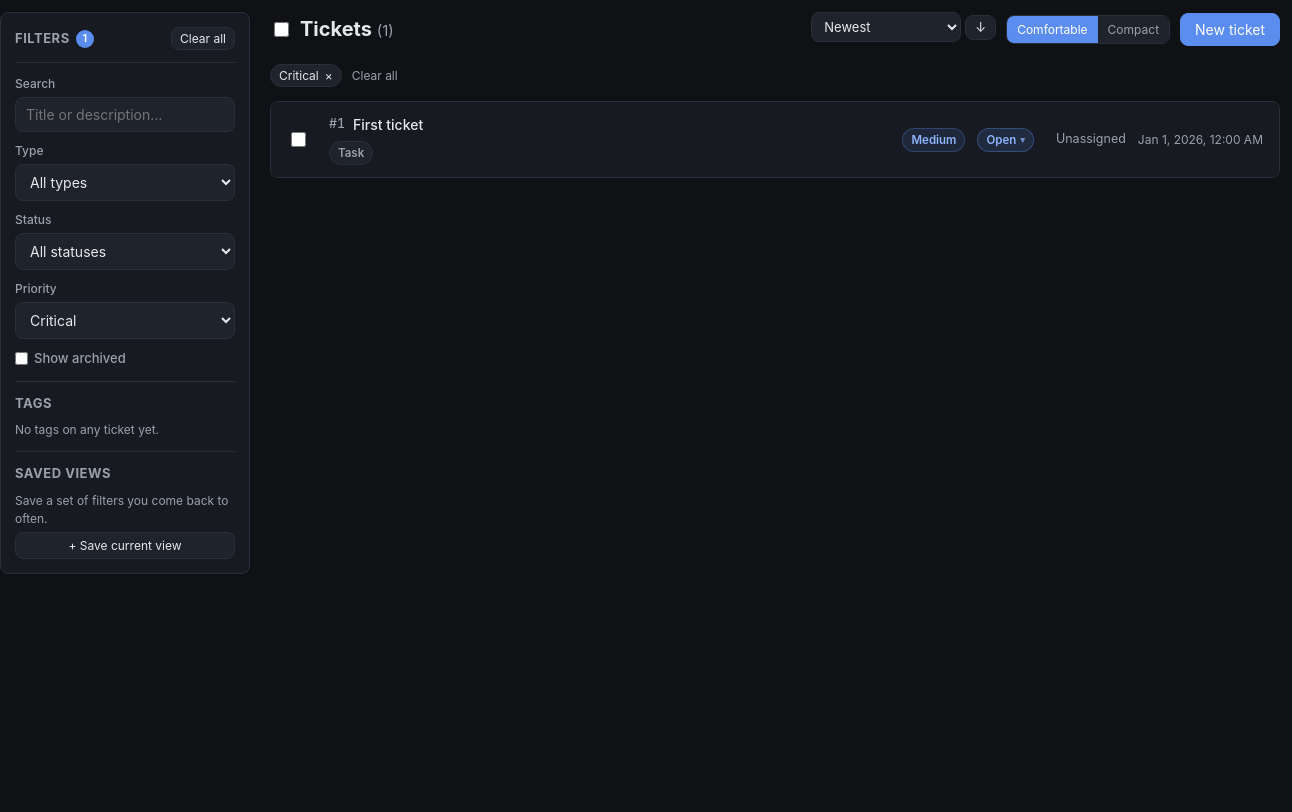
Test case: TicketList saved views › surfaces a duplicate-name conflict instead of silently failing
Expected: the text "First ticket" is shown, [353, 116, 423, 133]
Click the button "+ Save current view" at (125, 545), box [15, 532, 235, 558]
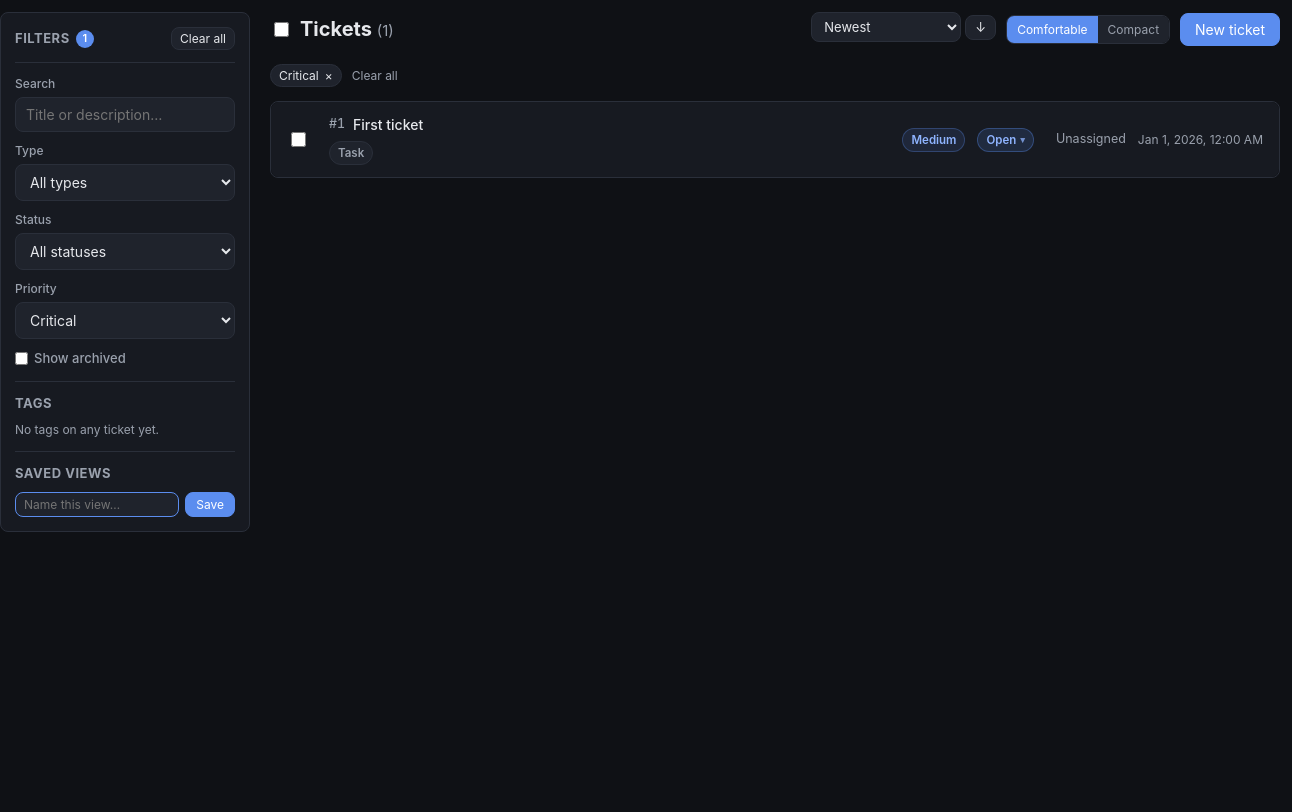
Type "Urgent" into the field named "Name for this view" at (97, 504), box [15, 492, 179, 516]
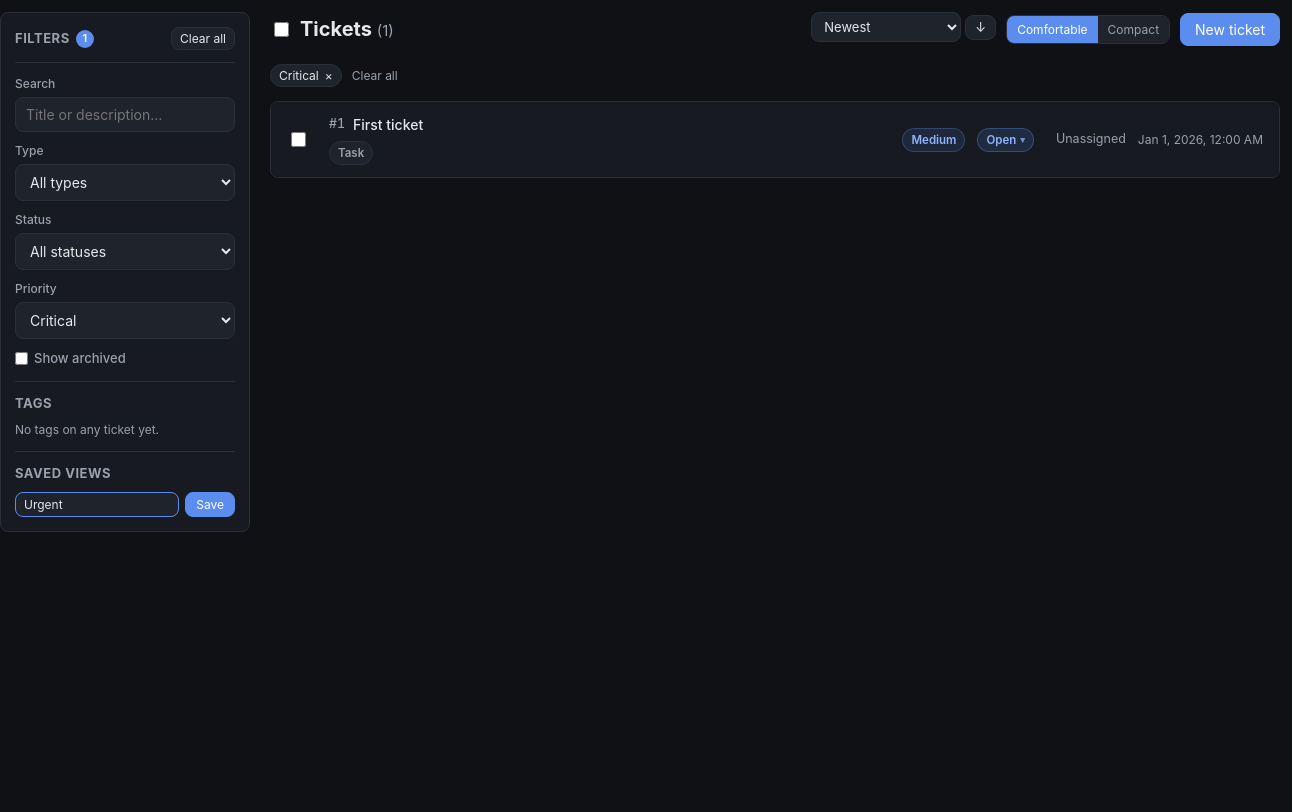
Click the button "Save" at (210, 504), box [185, 492, 235, 516]
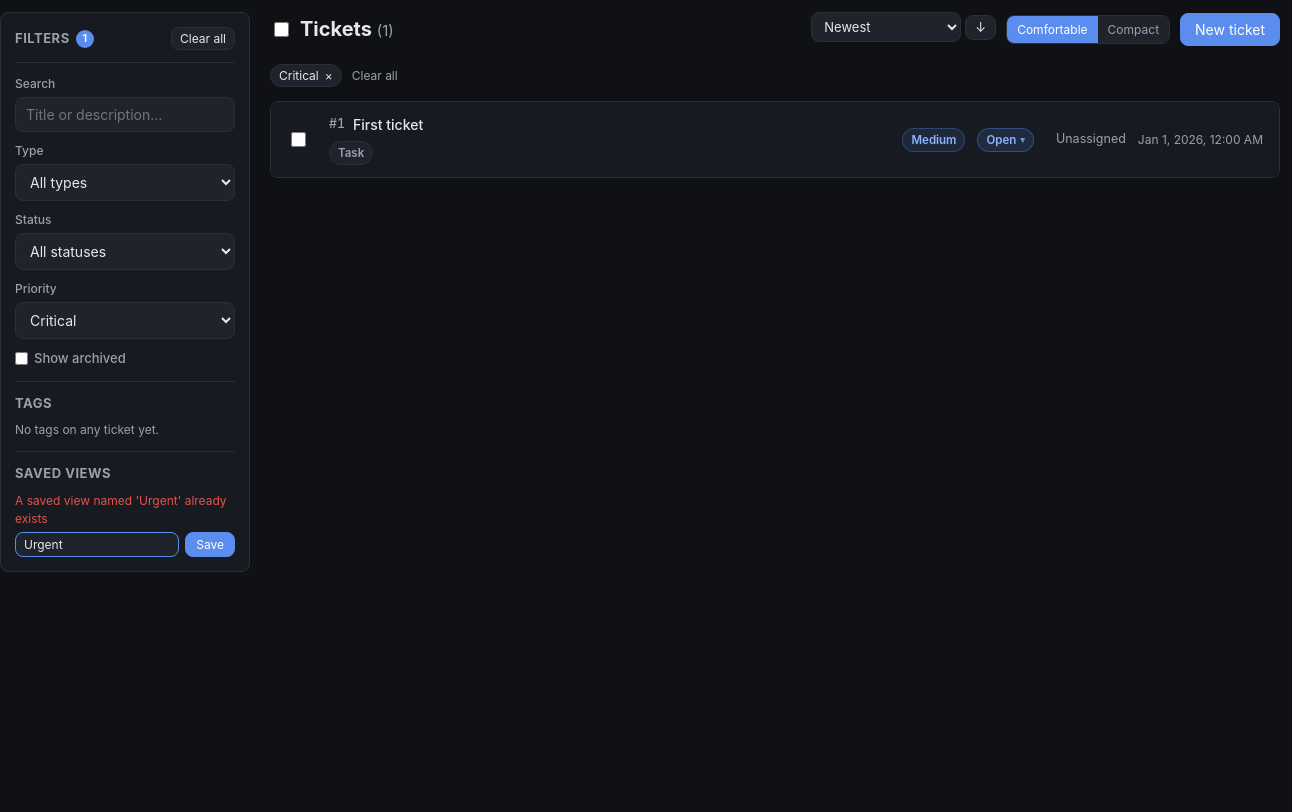
Result: the text "A saved view named 'Urgent' already exists" is shown at [15, 492, 235, 528]
